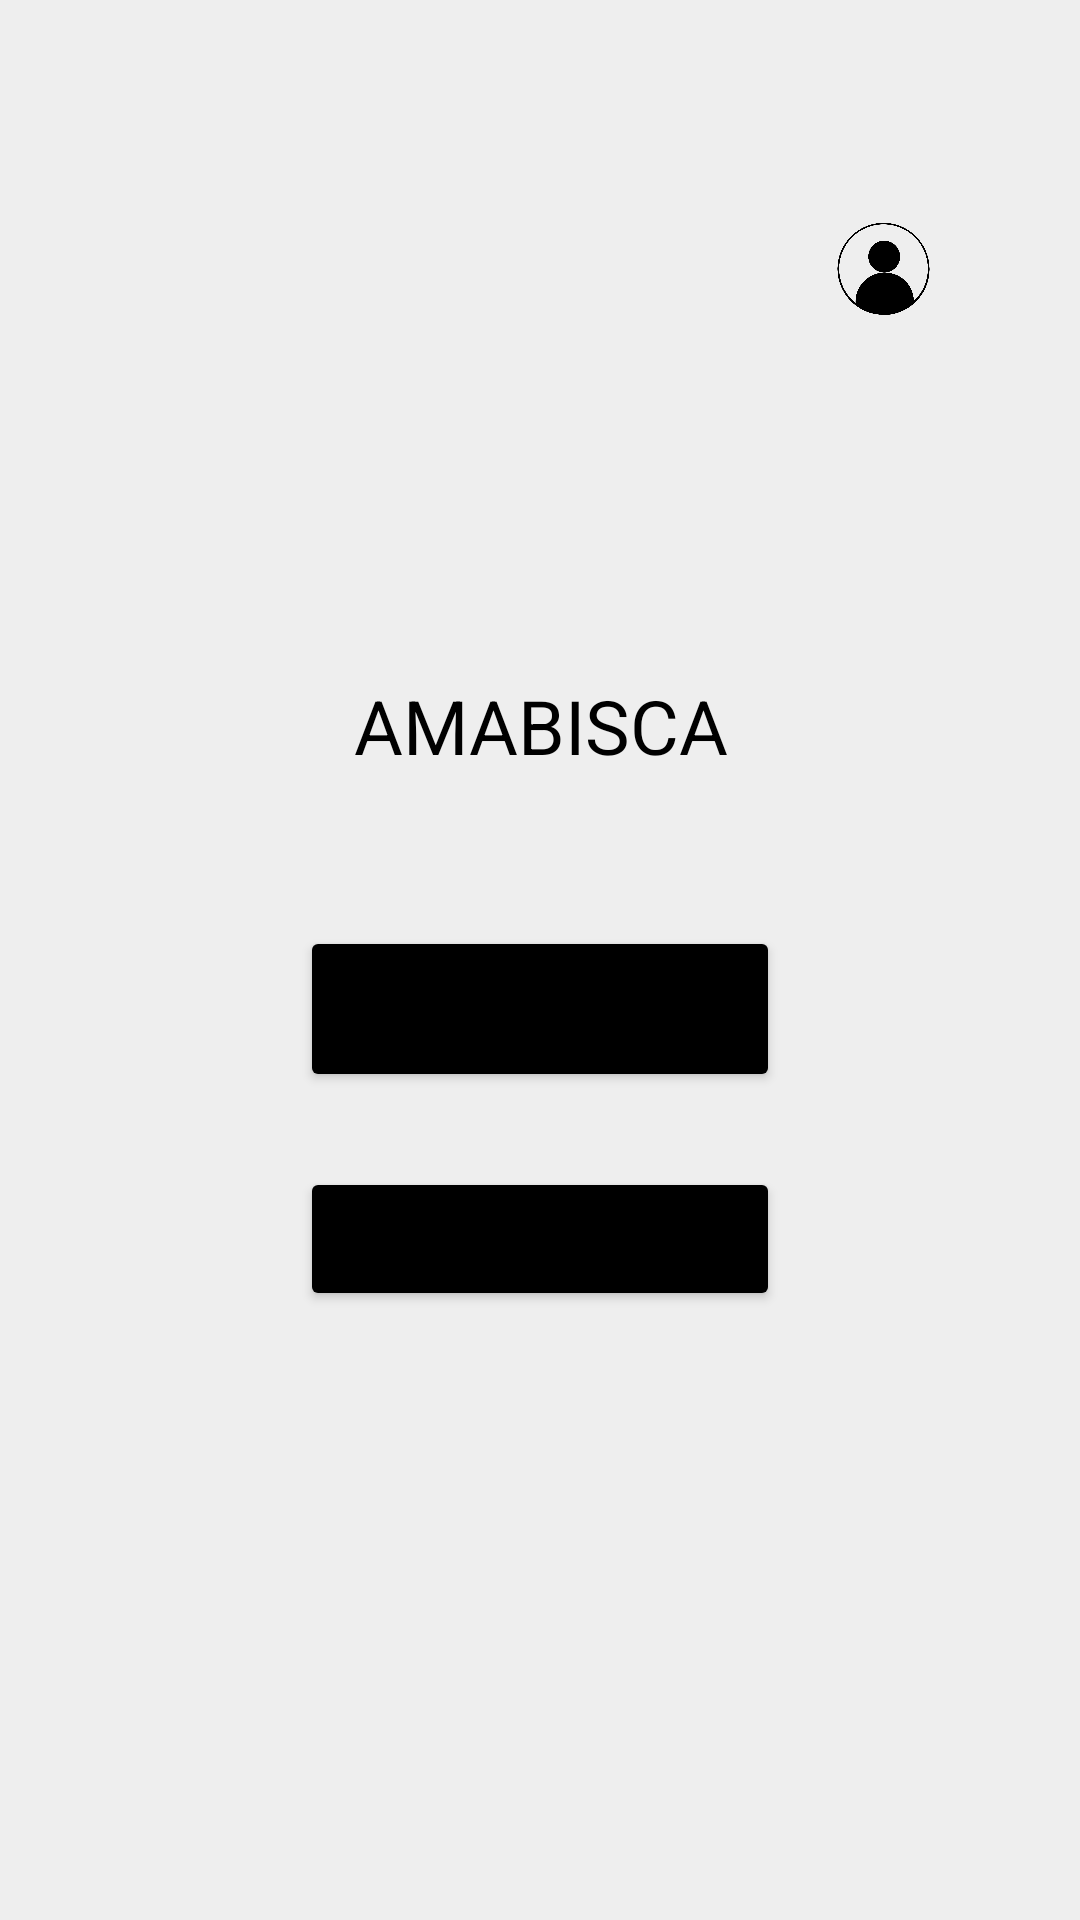

Where icons sit on this 1080px×1920px app screen, as box(x1, y1, x2, y2):
login: box(837, 223, 930, 315)
